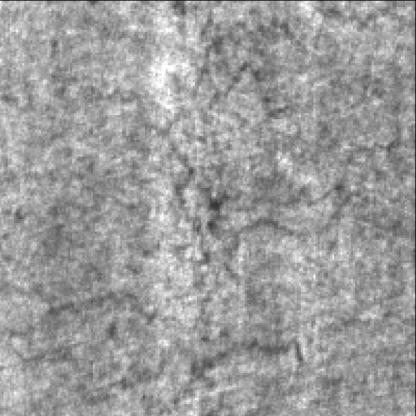crazing: (160, 37, 368, 271), (4, 241, 302, 402)
